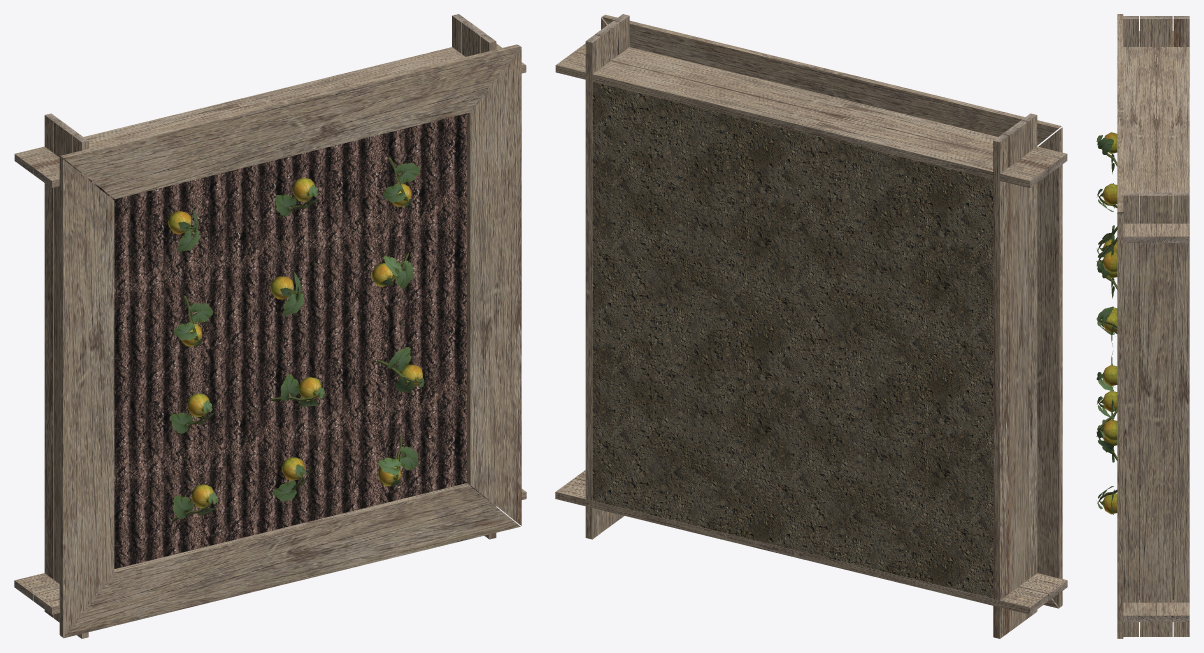
File: pumpkin-tended.dae
The picture shows the model from 3 angles, left to right: view 1: azimuth 30°, elevation 25°; view 2: azimuth 150°, elevation 25°; view 3: azimuth 270°, elevation 25°; orthographic projection. The views are drawn at different scales.
Parts seen in each view (by area): view 1: dirt, top_4_Cube_023, top_3_Cube_021, top_2_Cube_022, top_1_Cube_016, plank_06_Cube_009, plank_08_Cube_011, plank_09_Cube_013, pumpkinYoung_008, pumpkinYoung_003, pumpkinYoung_009, pumpkinYoung_007 (+9 smaller); view 2: dirt, plank_06_Cube_009, top_4_Cube_023, top_3_Cube_021, plank_09_Cube_013, plank_07_Cube_010, plank_08_Cube_011, plank_01_Cube_02, plank_03_Cube_004, plank_10_Cube_014, plank_04_Cube_006, plank_02_Cube_03; view 3: plank_04_Cube_006, plank_03_Cube_004, plank_05_Cube_007, plank_06_Cube_009, plank_07_Cube_010, top_2_Cube_022, top_3_Cube_021, dirt, plank_09_Cube_013, plank_01_Cube_02, plank_02_Cube_03, plank_08_Cube_011 (+12 smaller).
Part boxes in pixels (x1,y1,x2,y2): dirt: (88,113,488,568); top_4_Cube_023: (59,157,114,636); top_3_Cube_021: (61,44,519,198); top_2_Cube_022: (467,45,521,525); top_1_Cube_016: (61,483,520,638); plank_06_Cube_009: (14,43,501,173); plank_08_Cube_011: (44,113,59,617); plank_09_Cube_013: (54,120,78,622); pumpkinYoung_008: (376,347,424,392); pumpkinYoung_003: (271,374,324,406); pumpkinYoung_009: (378,436,417,486); pumpkinYoung_007: (174,295,213,347); dirt: (592,81,993,598); plank_06_Cube_009: (555,52,1048,187); top_4_Cube_023: (1037,127,1062,607); top_3_Cube_021: (602,14,1061,145); plank_09_Cube_013: (1003,120,1027,631); plank_07_Cube_010: (574,43,1067,174); plank_08_Cube_011: (993,134,1008,638); plank_01_Cube_02: (555,478,1048,614); plank_03_Cube_004: (585,35,601,539); plank_10_Cube_014: (1021,113,1037,617); plank_04_Cube_006: (595,21,620,532); plank_02_Cube_03: (574,470,1067,600); plank_04_Cube_006: (1140,192,1172,636); plank_03_Cube_004: (1173,192,1189,636); plank_05_Cube_007: (1123,192,1138,636); plank_06_Cube_009: (1156,31,1189,242); plank_07_Cube_010: (1123,31,1155,242); top_2_Cube_022: (1117,213,1123,638); top_3_Cube_021: (1117,14,1123,213); dirt: (1139,53,1173,599); plank_09_Cube_013: (1140,16,1172,53); plank_01_Cube_02: (1157,599,1189,621); plank_02_Cube_03: (1123,599,1155,621); plank_08_Cube_011: (1173,16,1189,46).
Bounding box in the file's own units: 3.68 × 3.68 × 0.7049.
5 materials, 5 textured.
